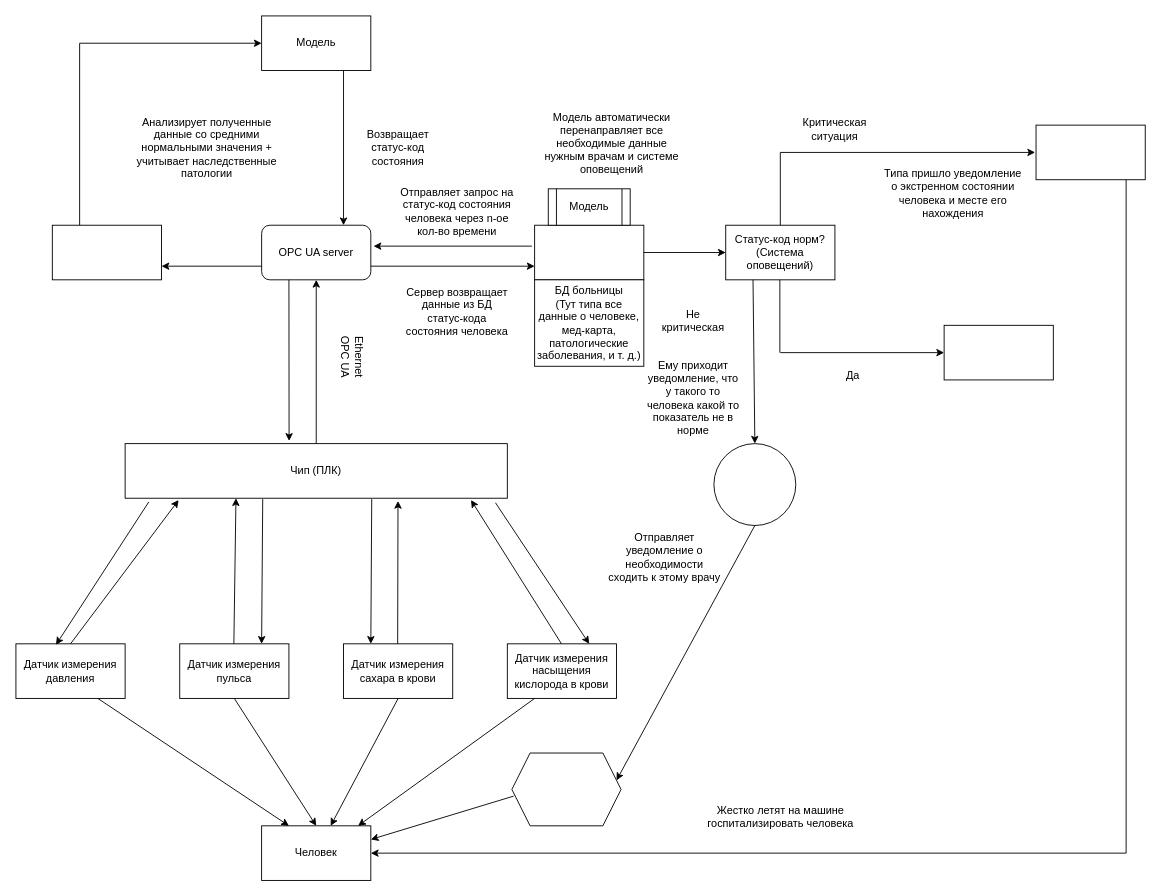
The diagram is 1161 pixels wide and 896 high, and some of its shapes have lost their labels. Each missing label, with the box of its shape:
OPC Client (в больнице): (534, 224, 644, 280)
OPC Client (на планшет людей скорой помощи): (1035, 124, 1145, 180)
БД: (51, 224, 162, 280)
Круто: (943, 324, 1053, 380)
Назначенный врач: (713, 443, 796, 526)
Приложение на телефоне человека: (511, 752, 621, 826)
